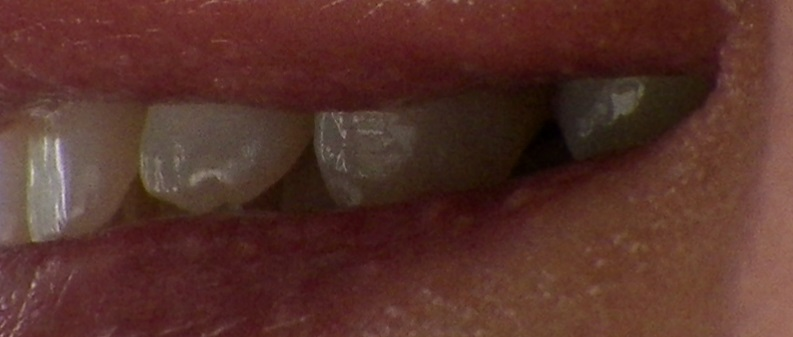boca: (1, 67, 693, 246)
